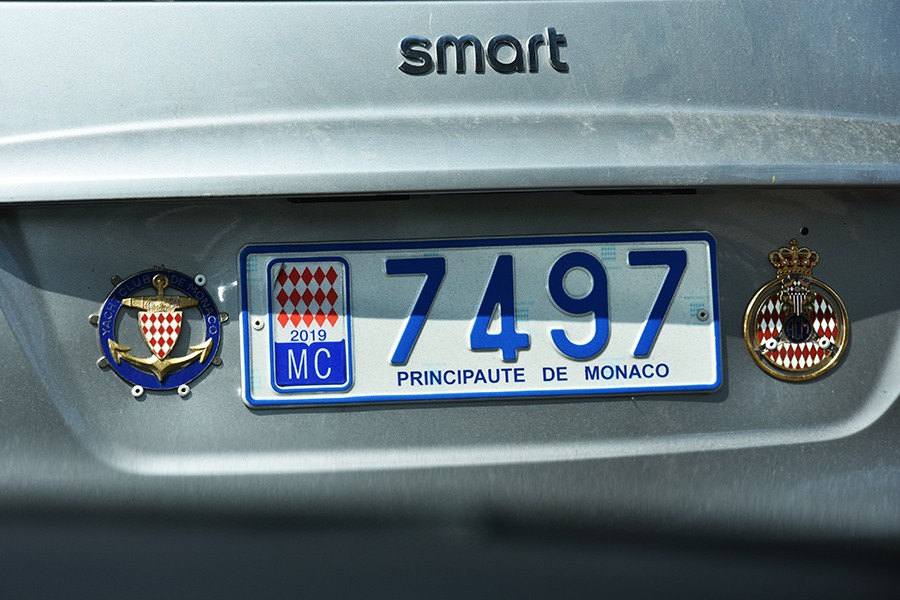tablica: (244, 248, 728, 399)
